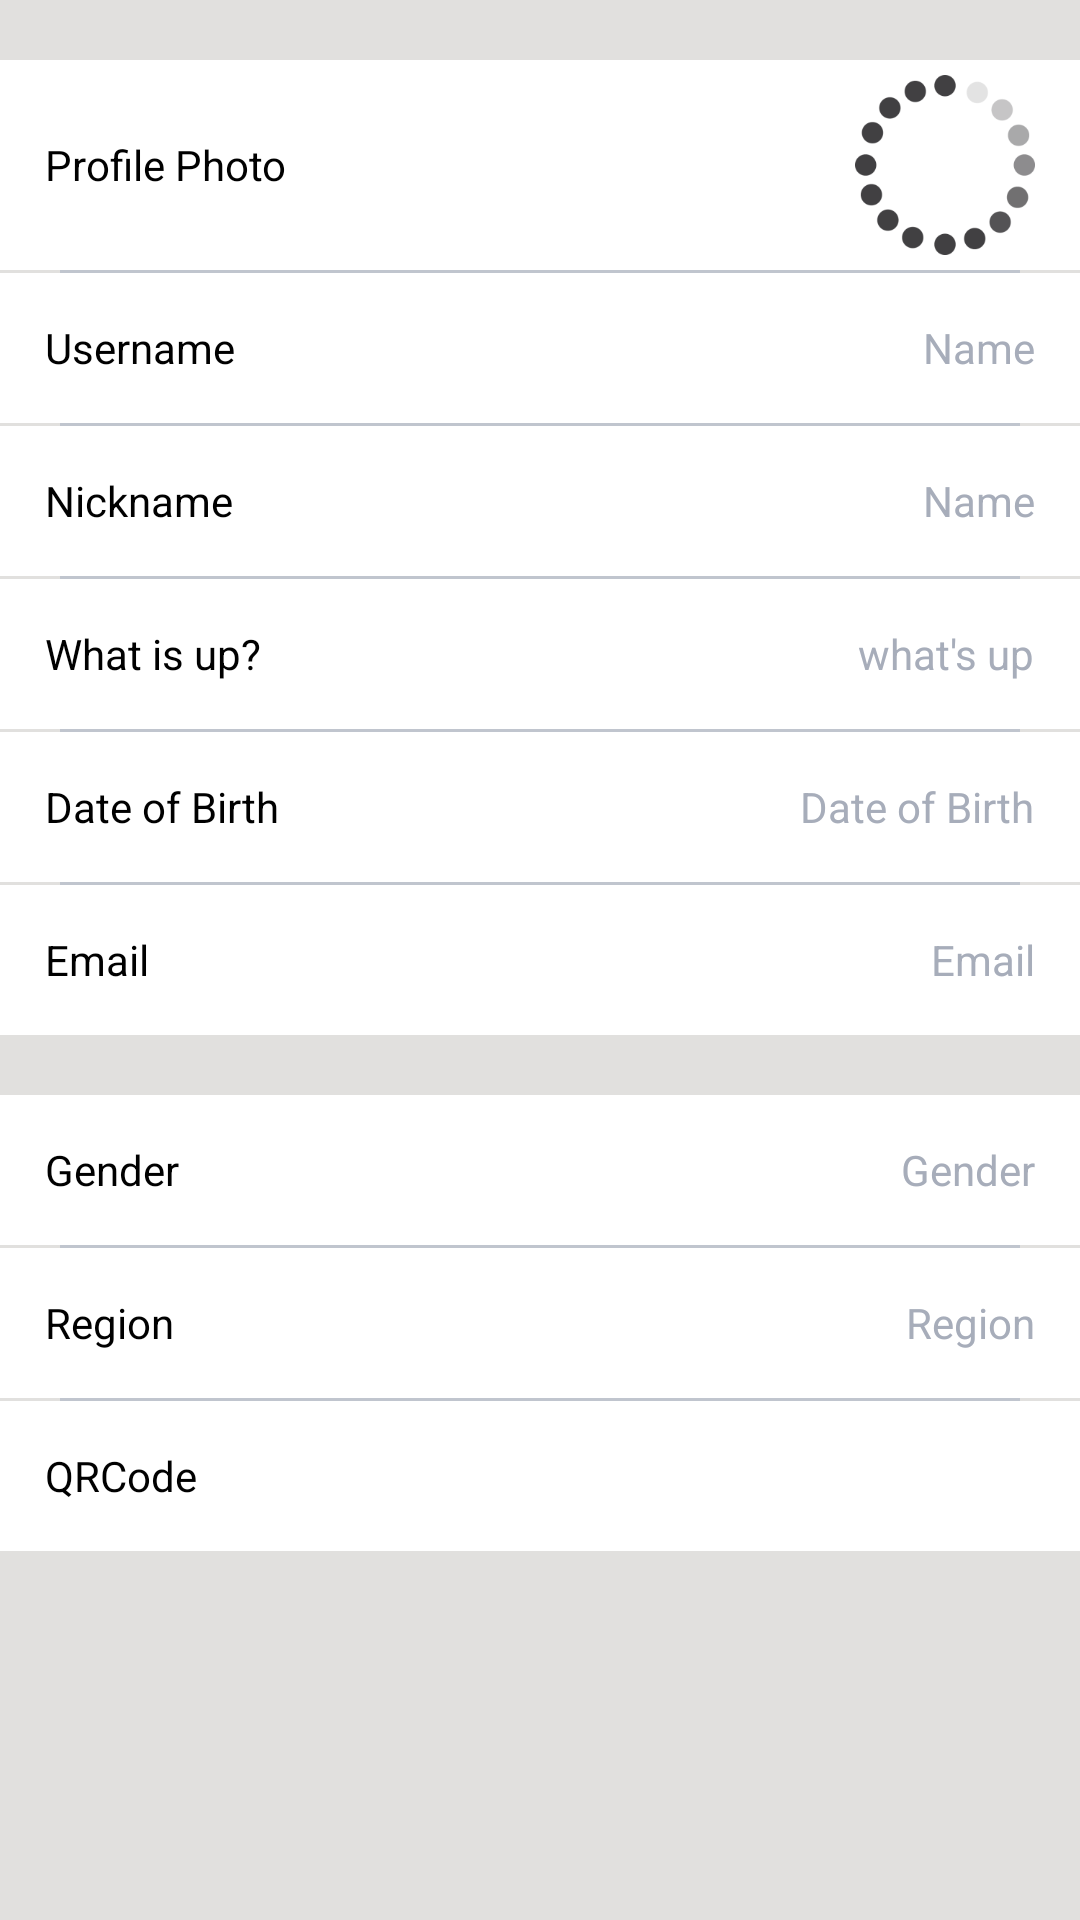

Icons on this 1080px x 1920px Android screen, each with its box as (x1, y1, x2, y2):
loading: (855, 75, 1035, 255)
